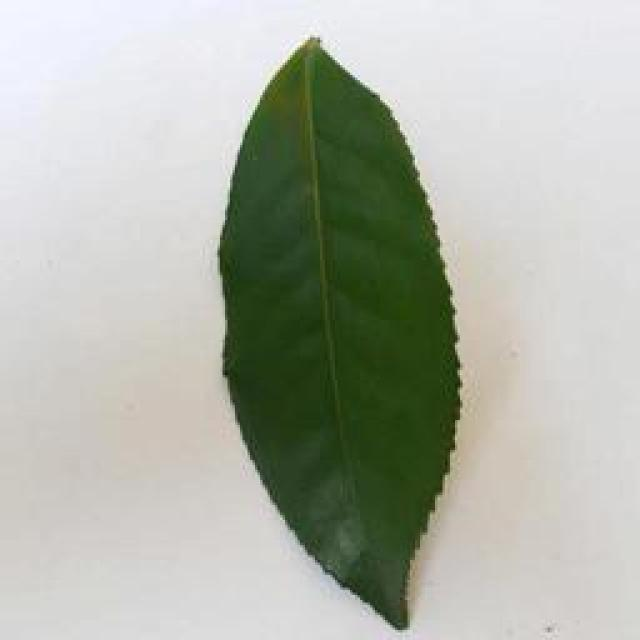Healthy: (210, 29, 470, 627)
